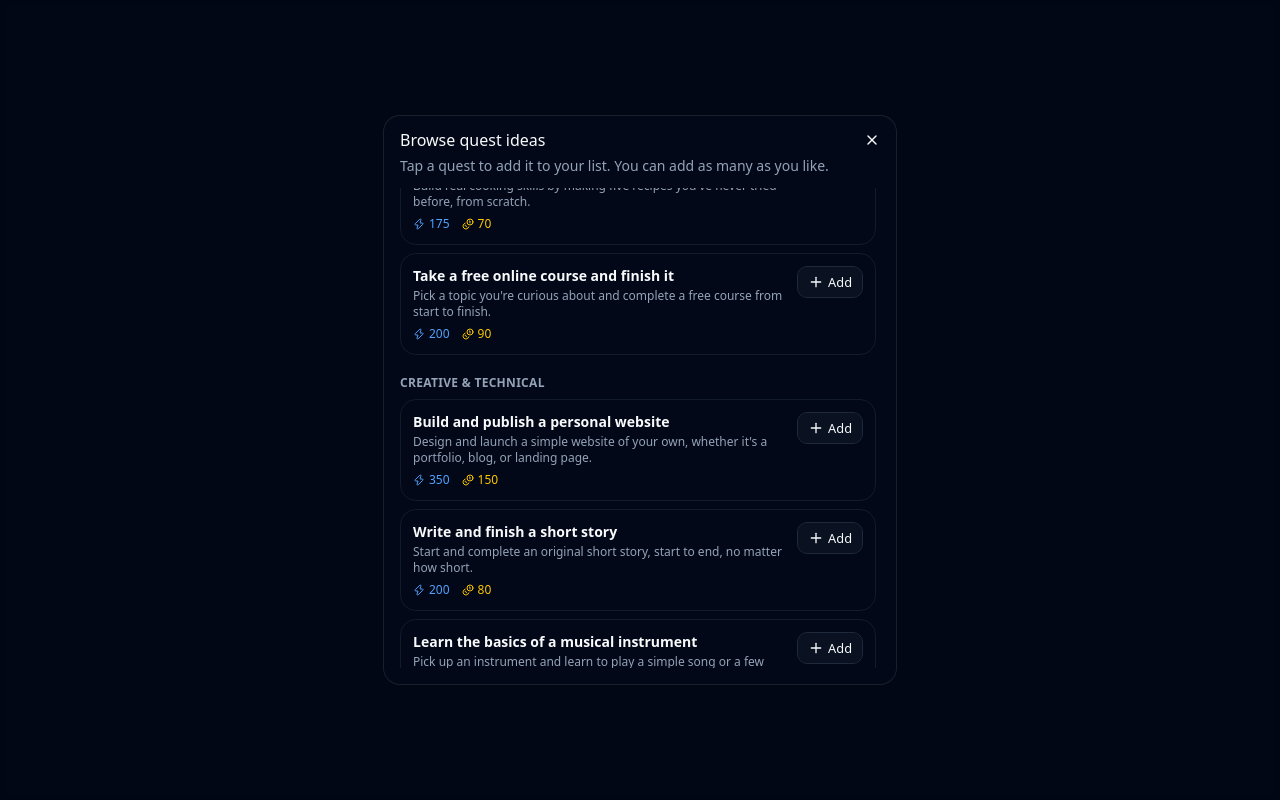
Scenario: QuestIdeaPicker › shows an inline error if adding a quest fails
The image size is (1280, 800).
(page scrolled)
Click the button named "Add \"Build and publish a personal website\"".
click(830, 428)  # box [797,412,863,444]
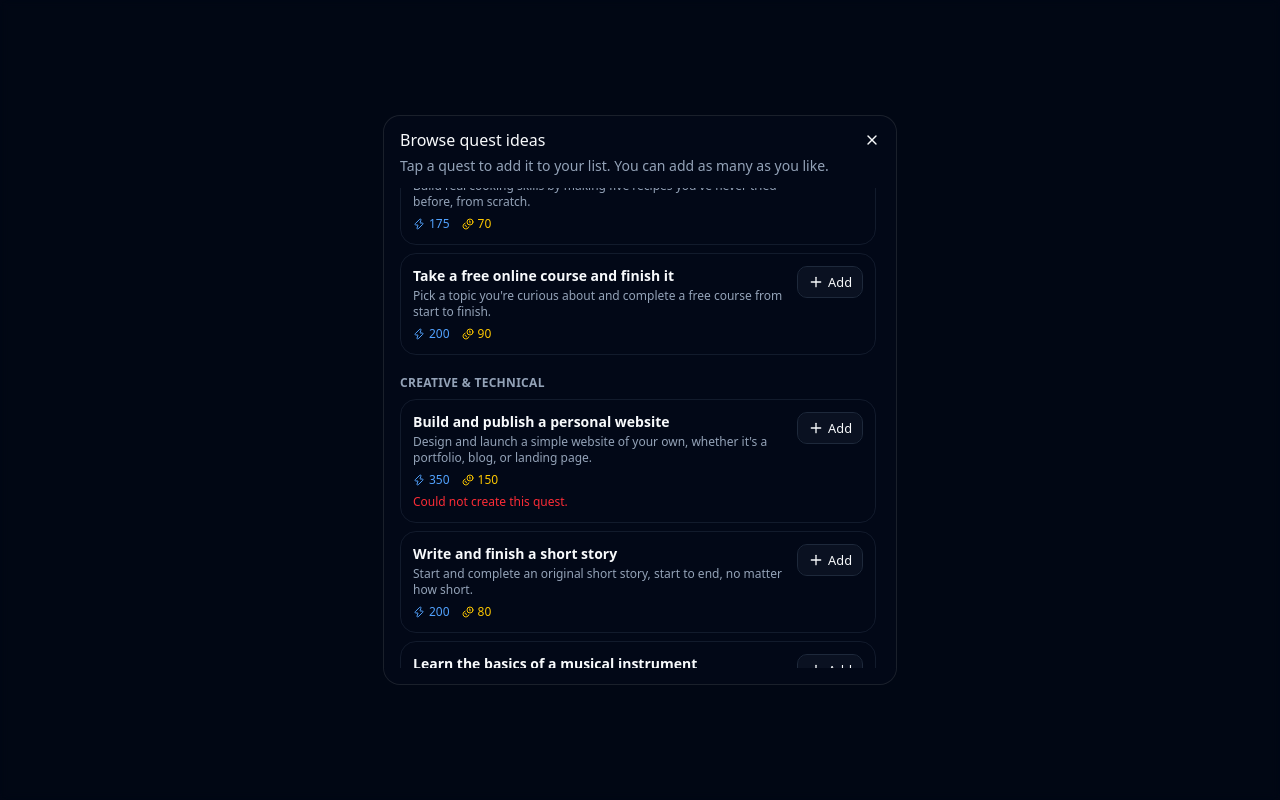
Expected: the text "Could not create this quest." is shown, [413,493,568,510]
